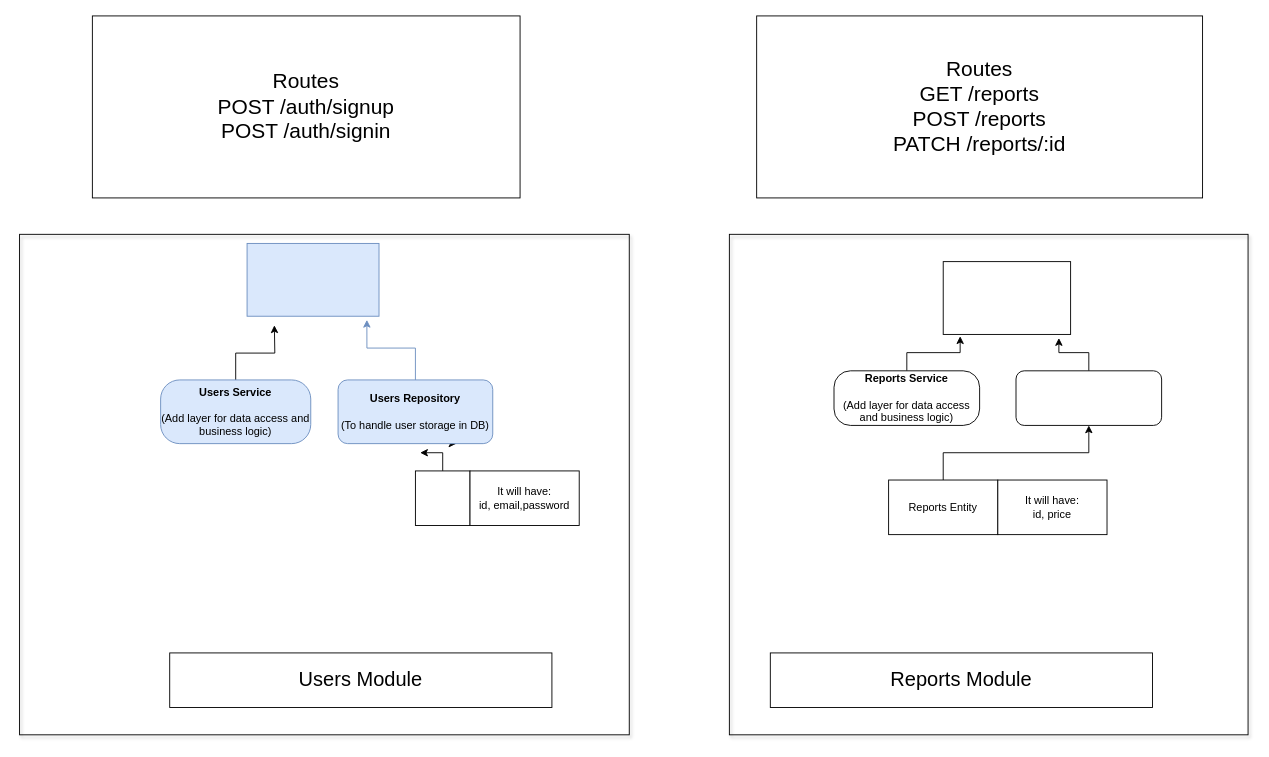
The diagram is 1269 pixels wide and 757 high, and some of its shapes have lost their labels. Each missing label, with the centre of its shape:
"Reports Controller" belongs at (x=1006, y=297).
"Reports Repository (To handle user storage in DB)" belongs at (x=1088, y=397).
"User Entiity" belongs at (x=442, y=498).
"Users Controller" belongs at (x=312, y=279).
